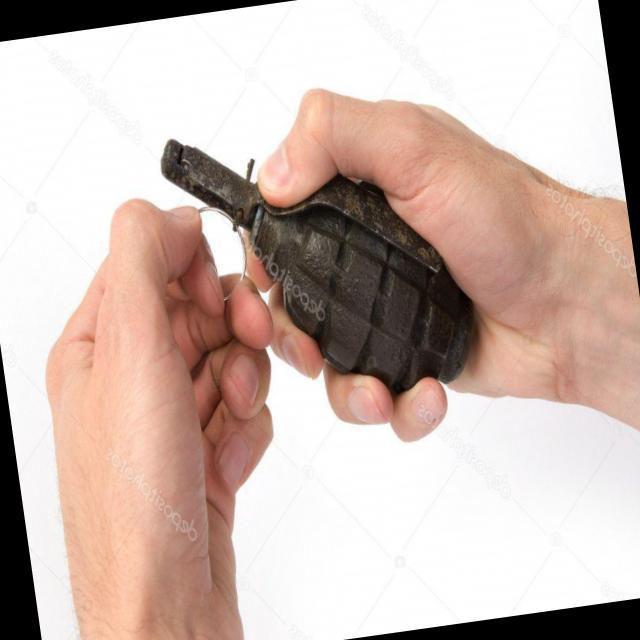grenade: (150, 96, 482, 429)
